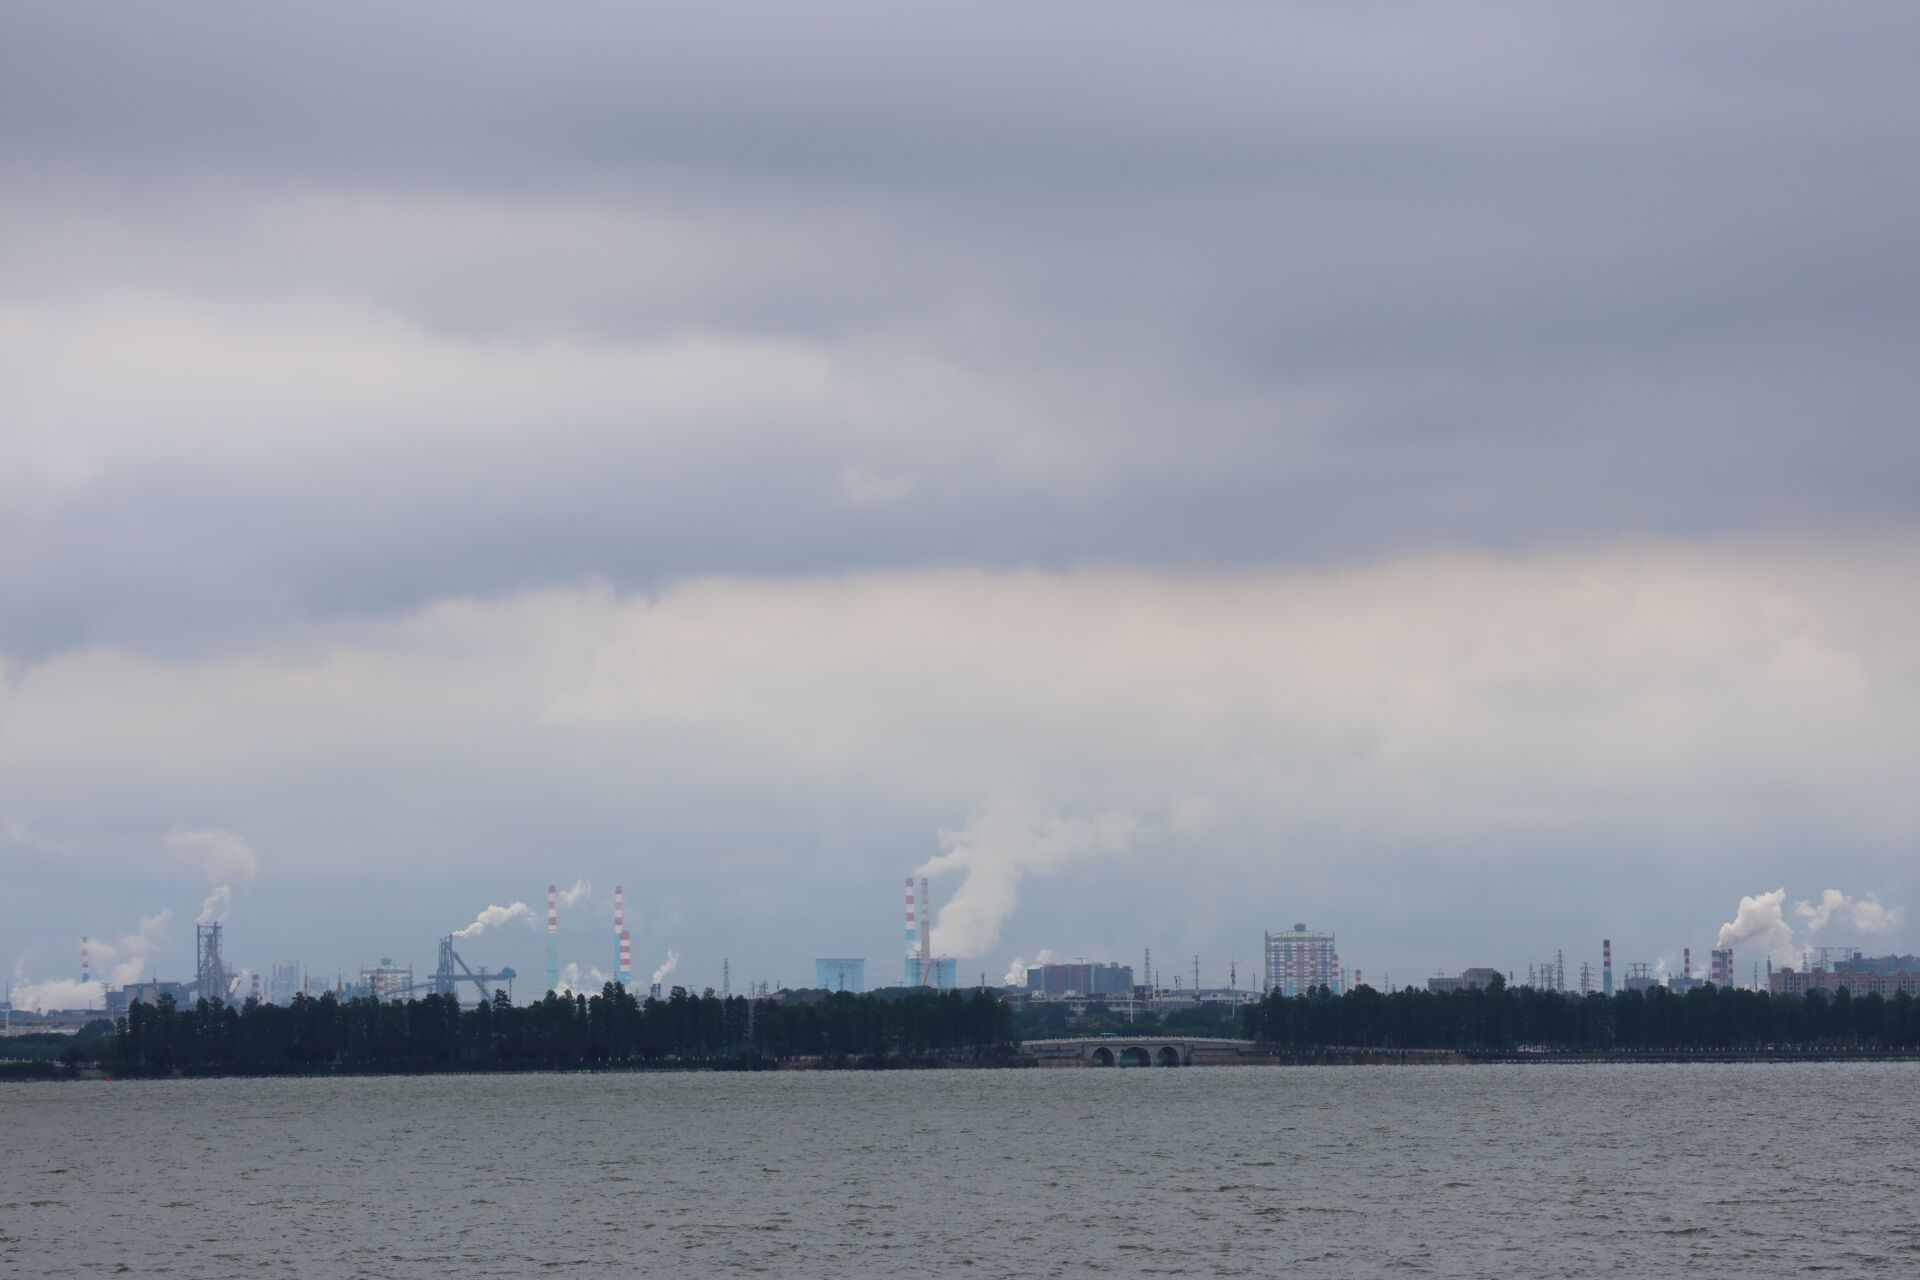Stratus: (23, 11, 1884, 331), (79, 296, 1854, 617)
